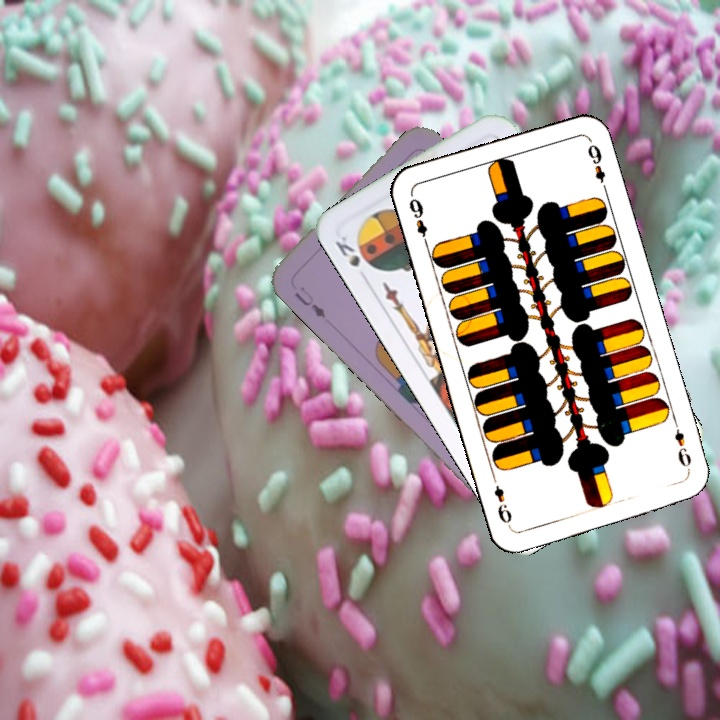E9: (405, 191, 431, 249), (669, 416, 694, 474)
EU: (290, 282, 329, 321)
SK: (331, 231, 377, 274)
